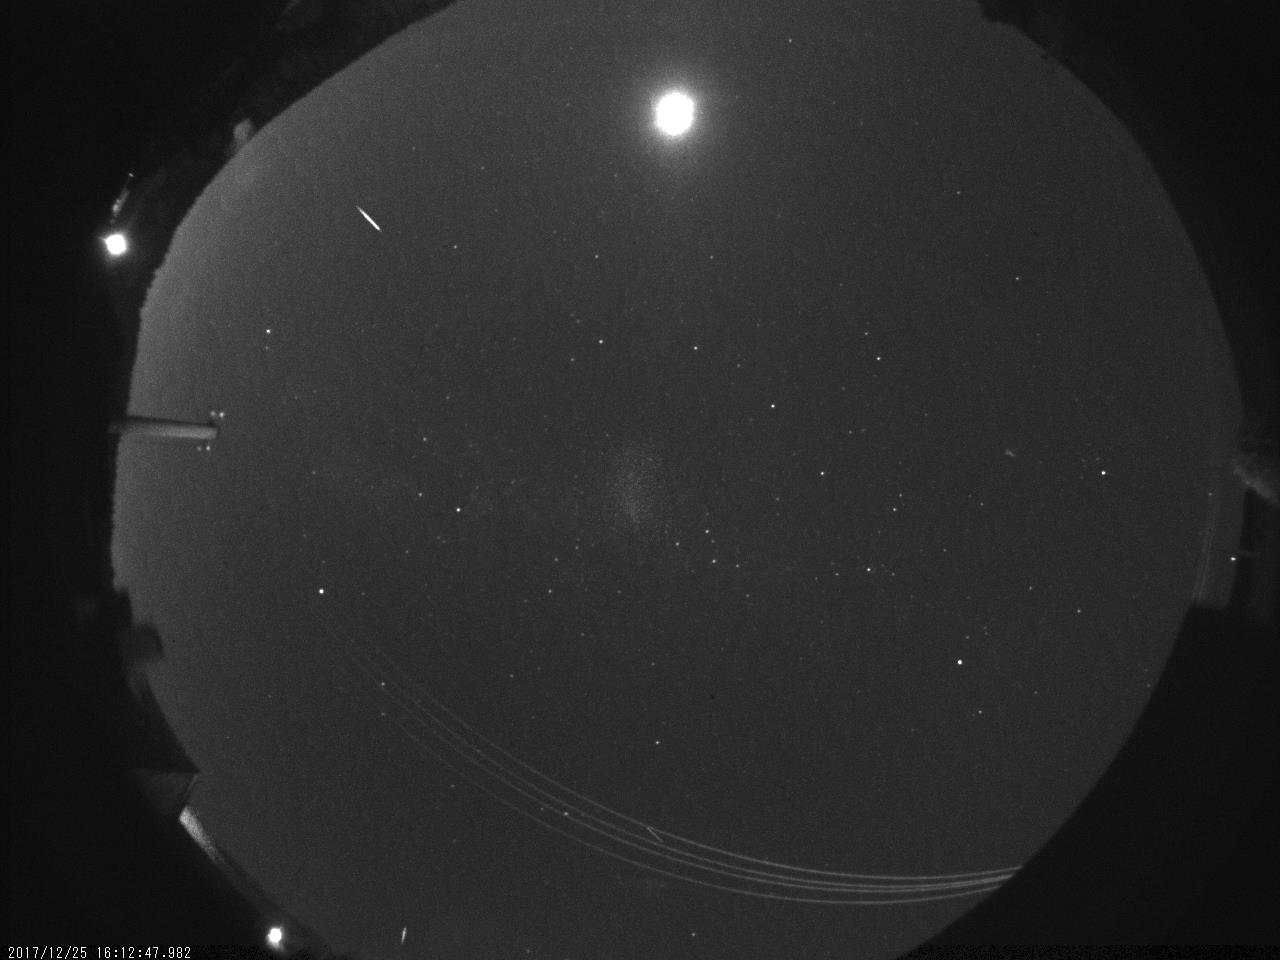meteor: (346, 198, 389, 234)
